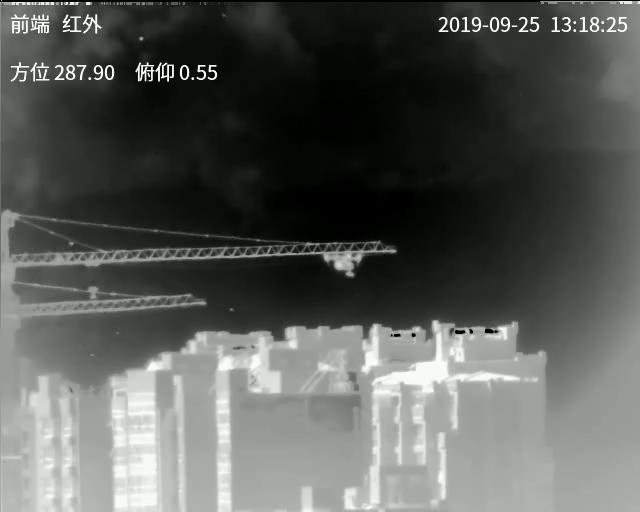uav: (318, 250, 362, 277)
